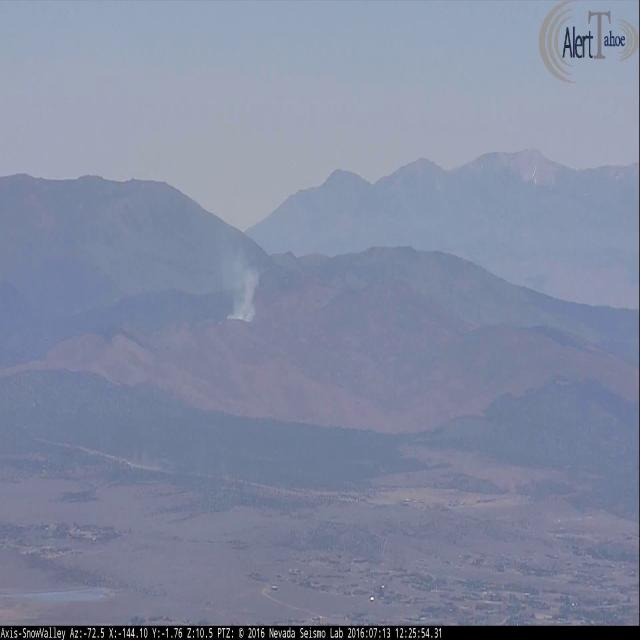smoke: (216, 236, 258, 313)
